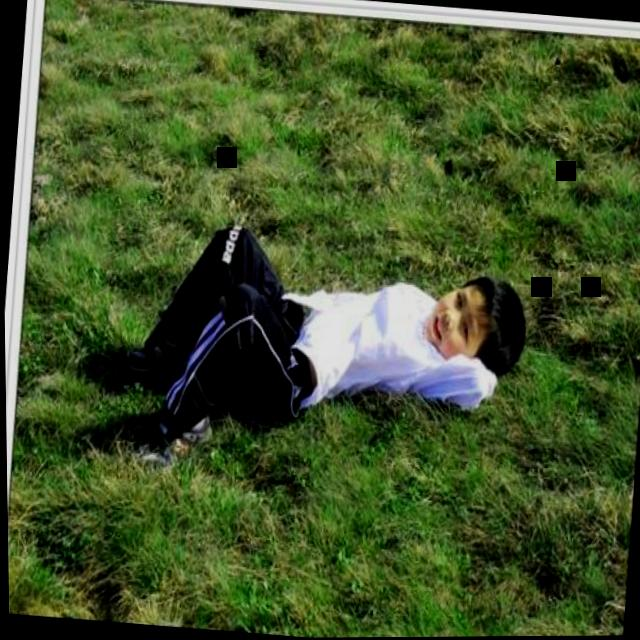Fall-Detected: (107, 193, 540, 485)
